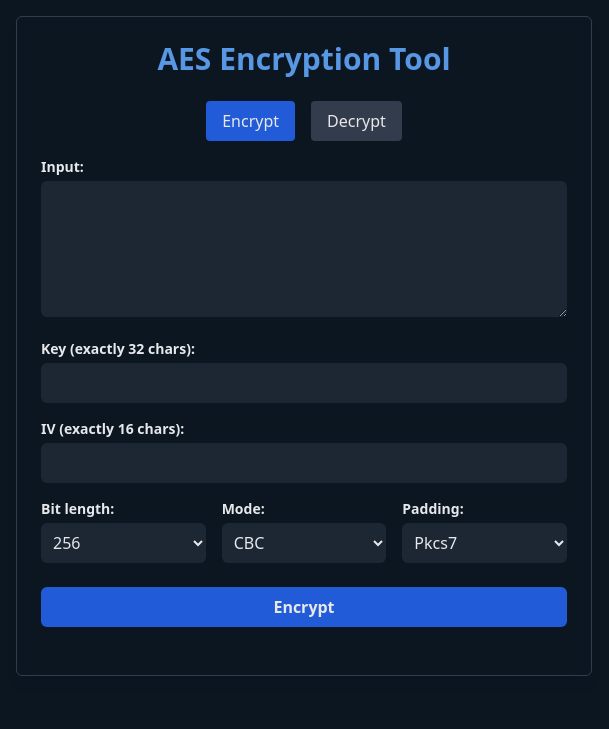
Test: EncryptionTool component › shows an error for missing key
This screenshot has width=609, height=729.
Note: submit input
Click the 2nd button "Encrypt" at (304, 607), box [41,587,567,627]
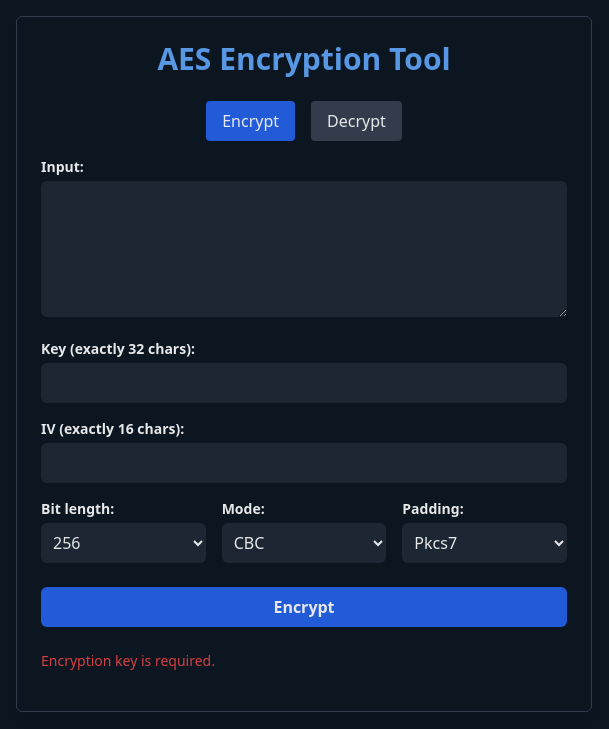
expect the text "Encryption key is required." is shown: met, box [41,651,215,670]
